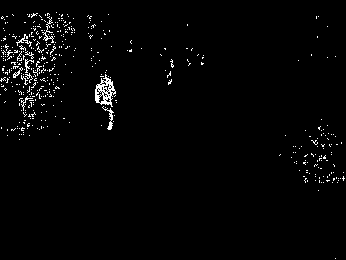person: (93, 69, 119, 130)
